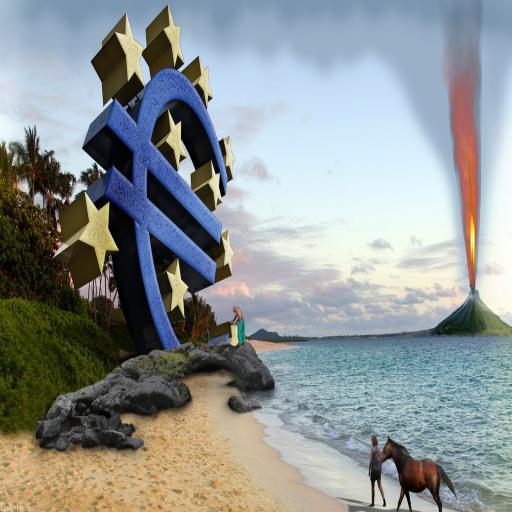horse: (378, 436, 460, 512)
